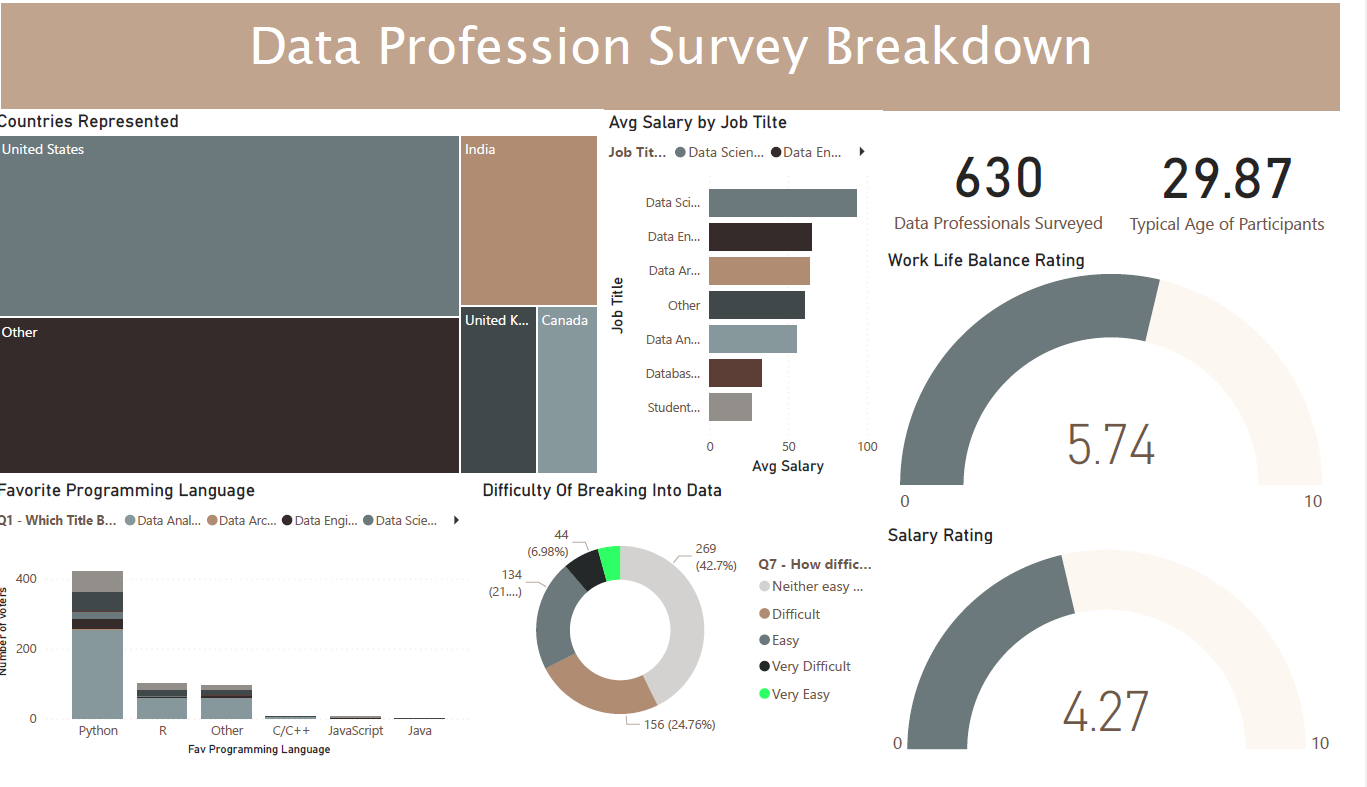

The page's visual inventory and layout, read from the dashboard file:
{"tool":"powerbi","page":{"name":"Page 1","canvas":[1280,720],"ordinal":0},"visuals":[{"type":"textbox","box":[9.6,0,1270.7,101.5],"z":0},{"type":"card","fields":{"Values":["Count(Data Professional Survey.Unique ID)"]},"box":[845.9,104.9,220.6,127.8],"z":1000},{"type":"card","fields":{"Values":["Avg(Data Professional Survey.Q10 - Current Age)"]},"box":[1066.4,104.9,213.8,130.4],"z":2000},{"type":"barChart","title":"Avg Salary by Job Tilte","fields":{"Category":["Data Professional Survey.Q1 - Which Title Best Fits your Current Role?.1"],"Y":["Avg(Data Professional Survey.Avg Salary)"],"Series":["Data Professional Survey.Q1 - Which Title Best Fits your Current Role?.1"]},"box":[581,102.2,264.9,349.7],"z":3000},{"type":"columnChart","title":"Favorite Programming Language","fields":{"Category":["Data Professional Survey.Q5 - Favorite Programming Language.1"],"Y":["CountNonNull(Data Professional Survey.Unique ID)"],"Series":["Data Professional Survey.Q1 - Which Title Best Fits your Current Role?.1"]},"box":[0,451.9,461.3,267.6],"z":4000},{"type":"treemap","title":"Countries Represented","fields":{"Group":["Data Professional Survey.Q11 - Which Country do you live in?.1"],"Values":["CountNonNull(Data Professional Survey.Q11 - Which Country do you live in?.1)"]},"box":[0,100.9,581,351],"z":5000},{"type":"gauge","title":"Work Life Balance Rating","fields":{"Y":["Avg(Data Professional Survey.Q6 - How Happy are you in your Current Position with the following? (Work/Life Balance))"],"MinValue":["Min(Data Professional Survey.Q6 - How Happy are you in your Current Position with the following? (Work/Life Balance))"],"MaxValue":["Max(Data Professional Survey.Q6 - How Happy are you in your Current Position with the following? (Work/Life Balance))1"]},"box":[845.9,232.7,434.4,260.9],"z":6000},{"type":"gauge","title":"Salary Rating","fields":{"Y":["Avg(Data Professional Survey.Q6 - How Happy are you in your Current Position with the following? (Salary))"],"MinValue":["Min(Data Professional Survey.Q6 - How Happy are you in your Current Position with the following? (Salary))"],"MaxValue":["Max(Data Professional Survey.Q6 - How Happy are you in your Current Position with the following? (Salary))"]},"box":[845.9,493.6,434.4,225.9],"z":7000},{"type":"donutChart","title":"Difficulty Of Breaking Into Data","fields":{"Category":["Data Professional Survey.Q7 - How difficult was it for you to break into Data?"],"Y":["CountNonNull(Data Professional Survey.Q7 - How difficult was it for you to break into Data?)"]},"box":[461.3,451.9,384.6,267.6],"z":8000}]}

Visuals, with their boxes in screenshot pixels (x1, y1, x2, y2), scaled from the page's 1280x720 canvas onto the 1367x787 screenshot:
textbox: 10/0/1366/111
card - Count(Data Professional Survey.Unique ID): 903/115/1139/254
card - Avg(Data Professional Survey.Q10 - Current Age): 1139/115/1366/257
"Avg Salary by Job Tilte" barChart: 620/112/903/494
"Favorite Programming Language" columnChart: 0/494/493/786
"Countries Represented" treemap: 0/110/620/494
"Work Life Balance Rating" gauge: 903/254/1366/540
"Salary Rating" gauge: 903/540/1366/786
"Difficulty Of Breaking Into Data" donutChart: 493/494/903/786
